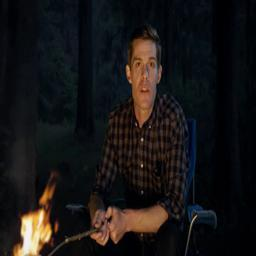fire: (14, 185, 54, 256)
